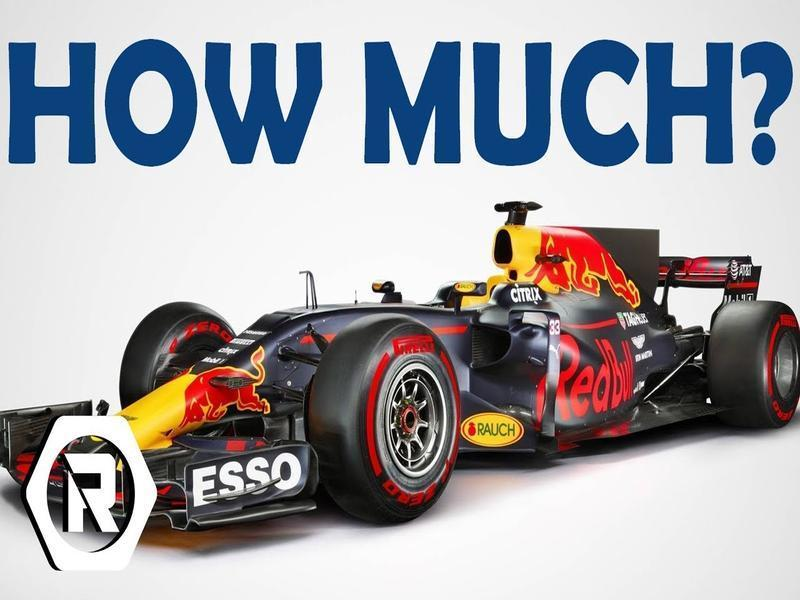f1: (9, 199, 800, 515)
